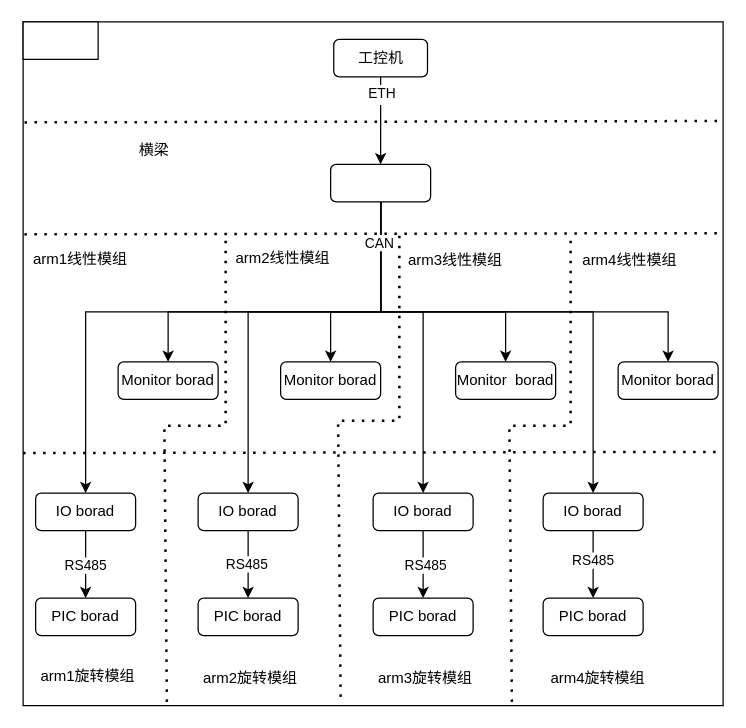
The diagram is 746 pixels wide and 728 high, and some of its shapes have lost their labels. The box of each missing label's shape, as (x1, y1, x2, y2) in pixels:
TOP borad: (329, 163, 431, 202)
手术台车: (22, 21, 98, 59)
